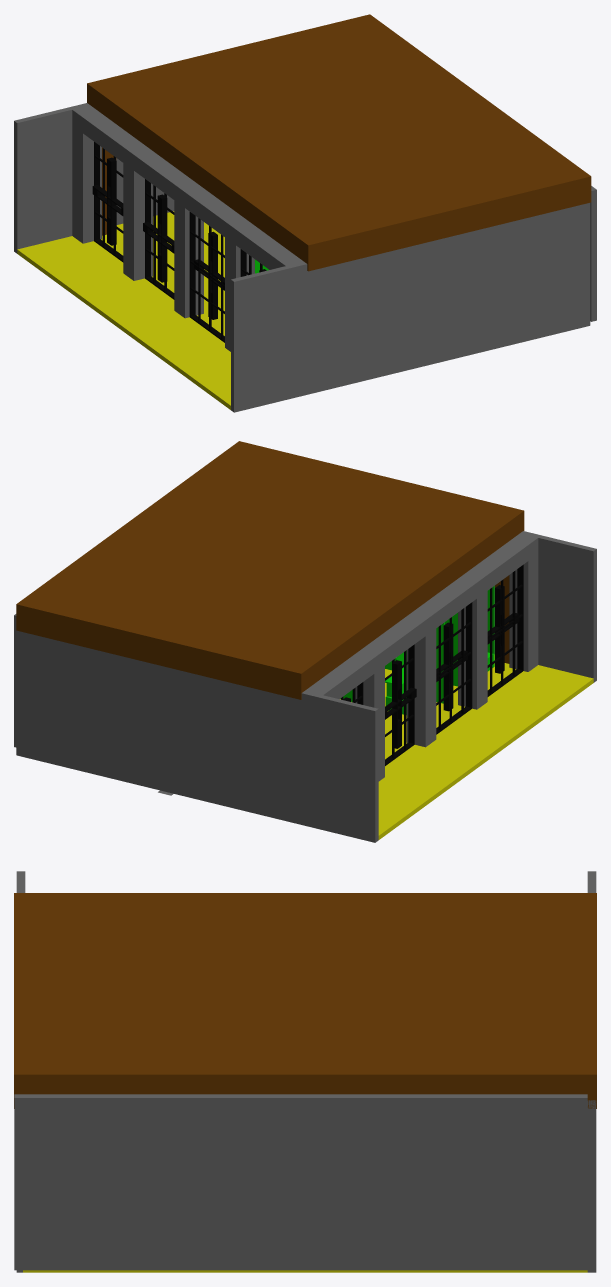
File: House.dae
3 views of the same model, one above another, from view 1: azimuth 30°, elevation 25°; view 2: azimuth 150°, elevation 25°; view 3: azimuth 270°, elevation 25° (orthographic). The views are drawn at different scales.
Parts seen in each view (by area): view 1: Column1, Wall12, Wall11, Floor, Wall13, Window4, Wall14; view 2: Column1, Wall13, Wall11, Floor, Window4, Wall12, Table; view 3: Column1, Wall14, Floor.
Part boxes in pixels (left/top/right/bottom): Column1: left=87, top=14, right=591, bottom=271; Wall12: left=231, top=203, right=590, bottom=412; Wall11: left=72, top=105, right=303, bottom=351; Floor: left=17, top=211, right=230, bottom=409; Wall13: left=14, top=103, right=174, bottom=253; Window4: left=92, top=142, right=266, bottom=342; Wall14: left=590, top=186, right=596, bottom=321; Column1: left=16, top=441, right=524, bottom=699; Wall13: left=16, top=630, right=378, bottom=842; Wall11: left=305, top=533, right=538, bottom=781; Floor: left=340, top=654, right=593, bottom=839; Window4: left=341, top=564, right=523, bottom=765; Wall12: left=494, top=531, right=596, bottom=682; Table: left=340, top=586, right=494, bottom=714; Column1: left=14, top=893, right=596, bottom=1108; Wall14: left=14, top=1094, right=596, bottom=1272; Floor: left=23, top=1270, right=587, bottom=1272.
Bounding box in the file's own units: 47.89 × 20.61 × 50.74.
